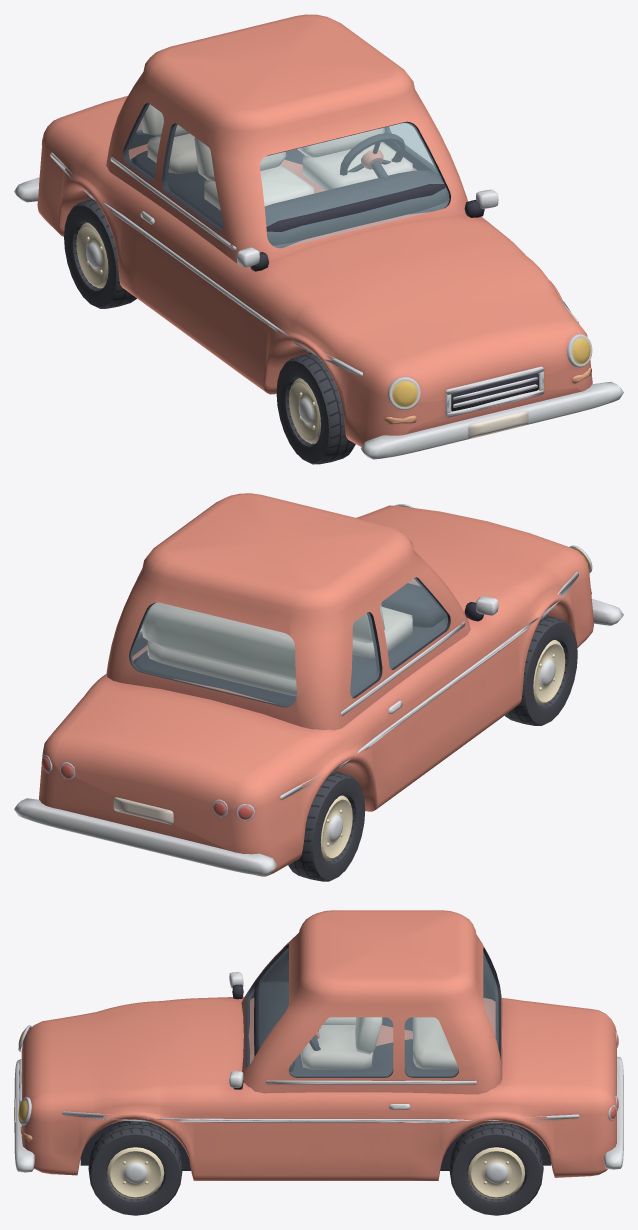
File: 1960s-compact-car.glb
3 renders of one model, top to bottom at view 1: azimuth 30°, elevation 25°; view 2: azimuth 150°, elevation 25°; view 3: azimuth 270°, elevation 25°, orthographic. The views are drawn at different scales.
Parts seen in each view (by area): view 1: 1960s-compact-car_body, 1960s-compact-car_windows, 1960s-compact-car_wheel_fr, 1960s-compact-car_wheel_rr; view 2: 1960s-compact-car_body, 1960s-compact-car_windows, 1960s-compact-car_wheel_rr, 1960s-compact-car_wheel_fr; view 3: 1960s-compact-car_body, 1960s-compact-car_windows, 1960s-compact-car_wheel_fl, 1960s-compact-car_wheel_rl.
Part boxes in pixels (x1,y1,x2,y2): 1960s-compact-car_body: [14, 14, 623, 459]; 1960s-compact-car_windows: [126, 103, 449, 247]; 1960s-compact-car_wheel_fr: [276, 353, 355, 464]; 1960s-compact-car_wheel_rr: [64, 199, 136, 308]; 1960s-compact-car_body: [14, 493, 623, 876]; 1960s-compact-car_windows: [131, 578, 447, 706]; 1960s-compact-car_wheel_rr: [288, 771, 365, 881]; 1960s-compact-car_wheel_fr: [505, 615, 577, 725]; 1960s-compact-car_body: [14, 910, 623, 1180]; 1960s-compact-car_windows: [247, 947, 498, 1076]; 1960s-compact-car_wheel_fl: [88, 1121, 182, 1215]; 1960s-compact-car_wheel_rl: [449, 1123, 543, 1215].
Bounding box in the file's own units: 1.56 × 1.5 × 3.75.
18 materials, 5 textured.
